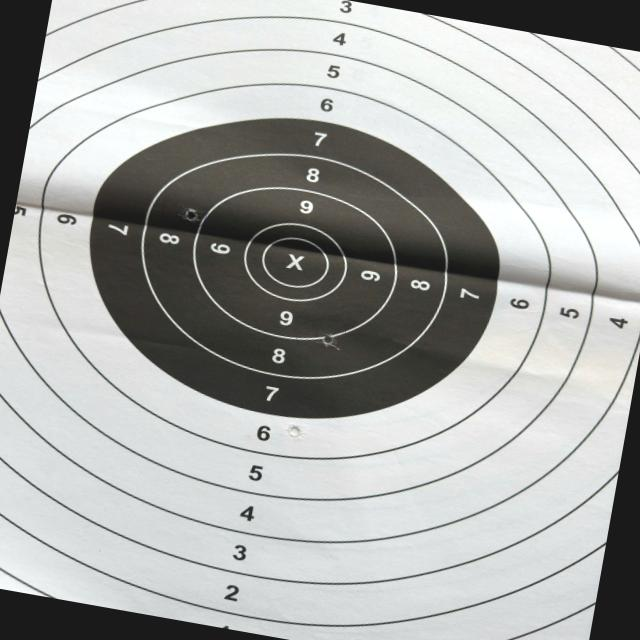bullet: (286, 424, 303, 438), (321, 334, 337, 348), (181, 207, 197, 220)
target: (0, 0, 640, 640)
